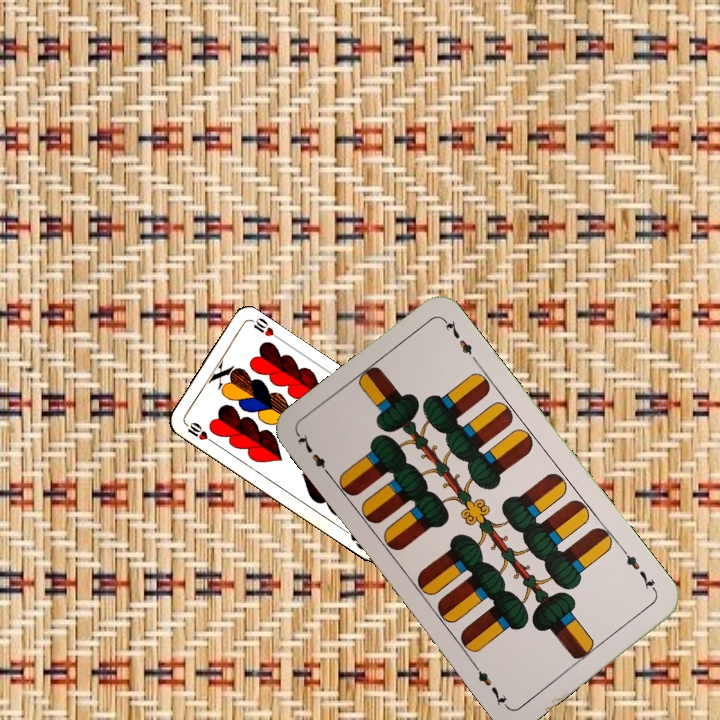E7: (618, 545, 660, 596), (293, 430, 335, 481)
H10: (180, 418, 216, 446)
